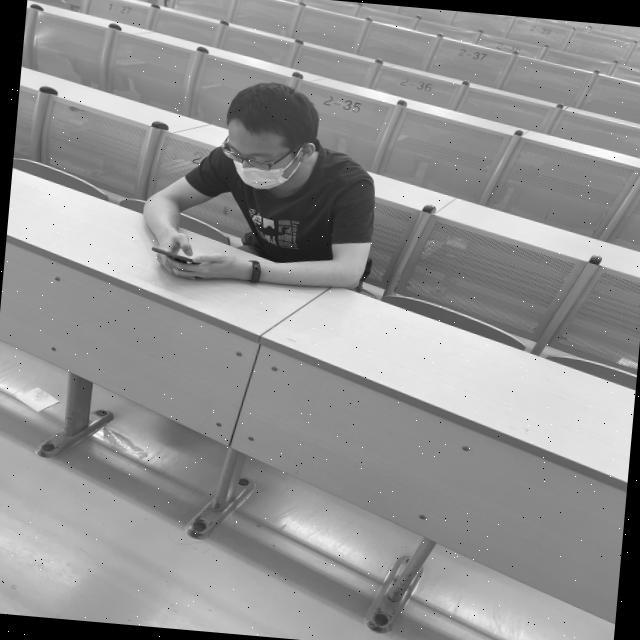phone: (139, 73, 384, 296)
